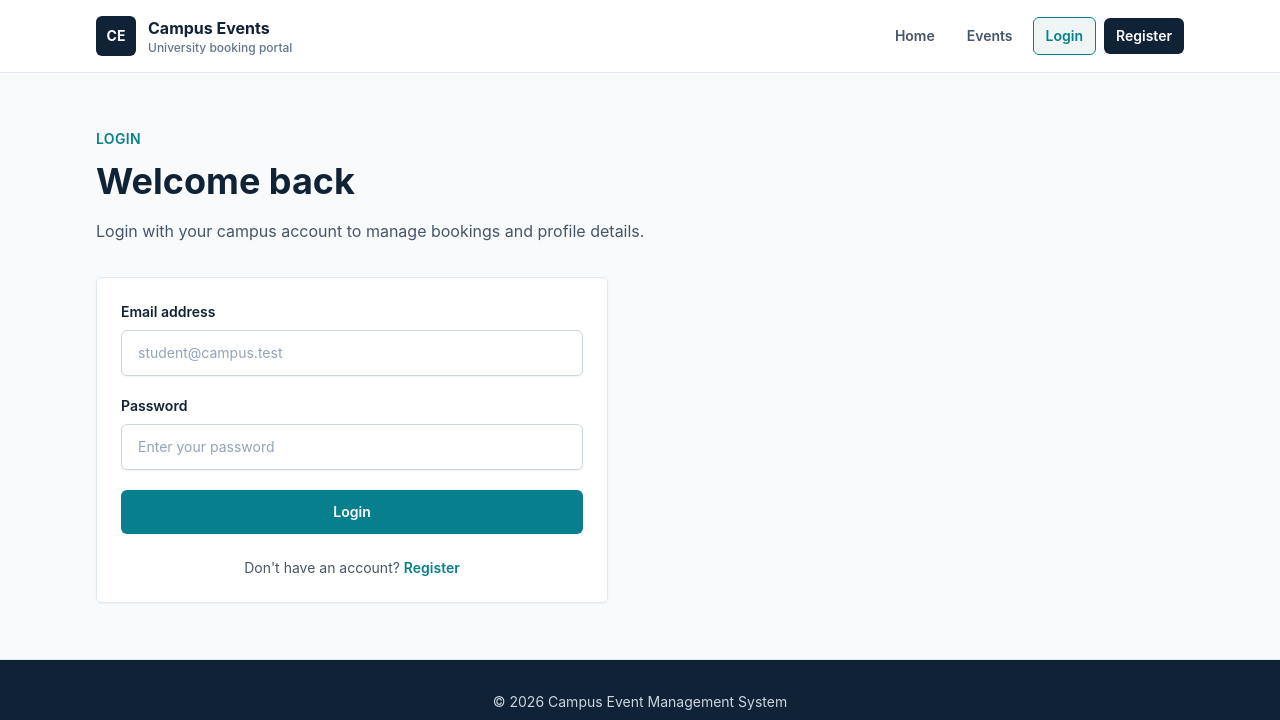
Login redirects › redirects admin users to the role-specific homepage after login
Type "person@campus.test" into the field labelled "Email address". click: coordinates (352, 353)
box: x1=121 y1=330 x2=583 y2=376
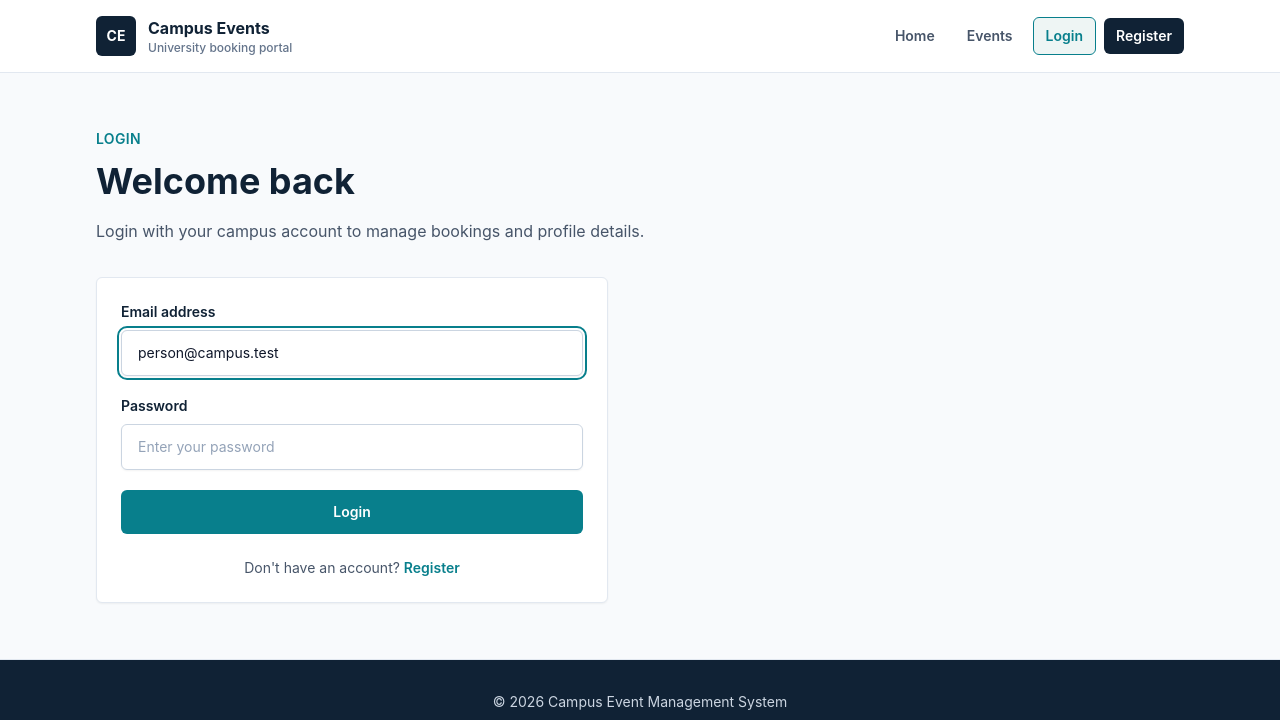
Type "password" into the password field labelled "Password". click: coordinates (352, 447)
box: x1=121 y1=424 x2=583 y2=470
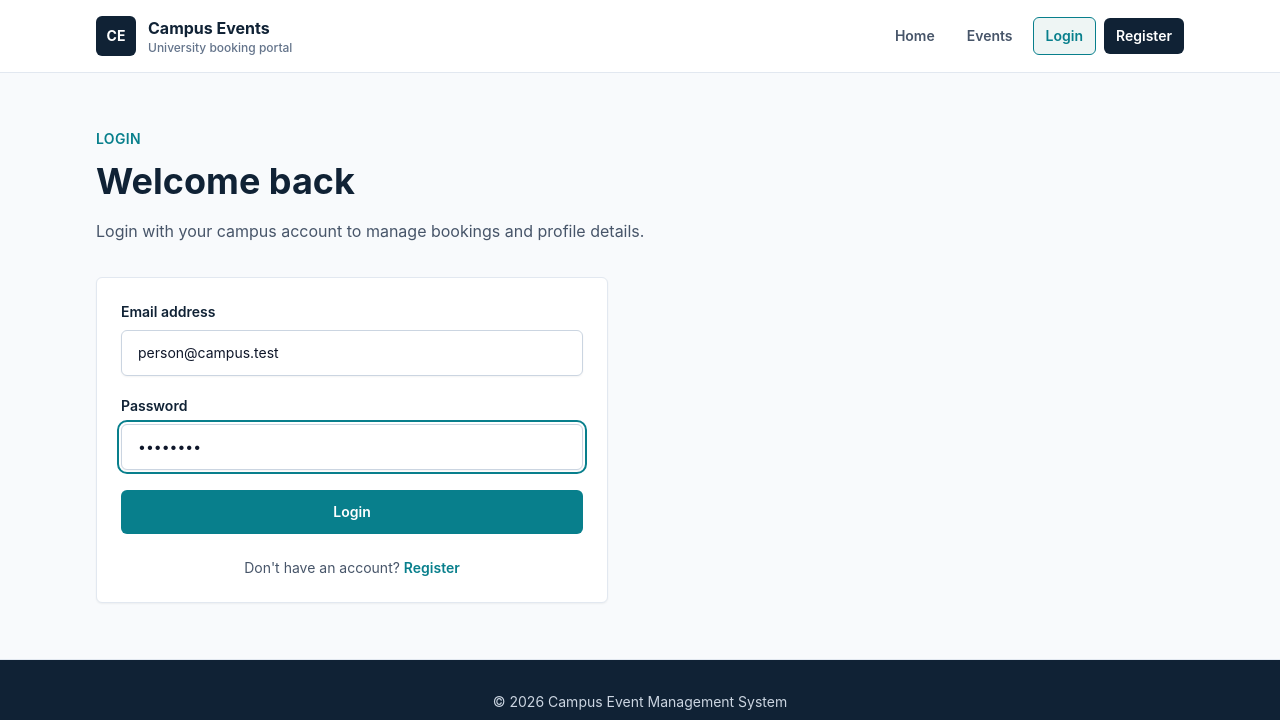
Click the button "Login". click: coordinates (352, 512)
box: x1=121 y1=490 x2=583 y2=534
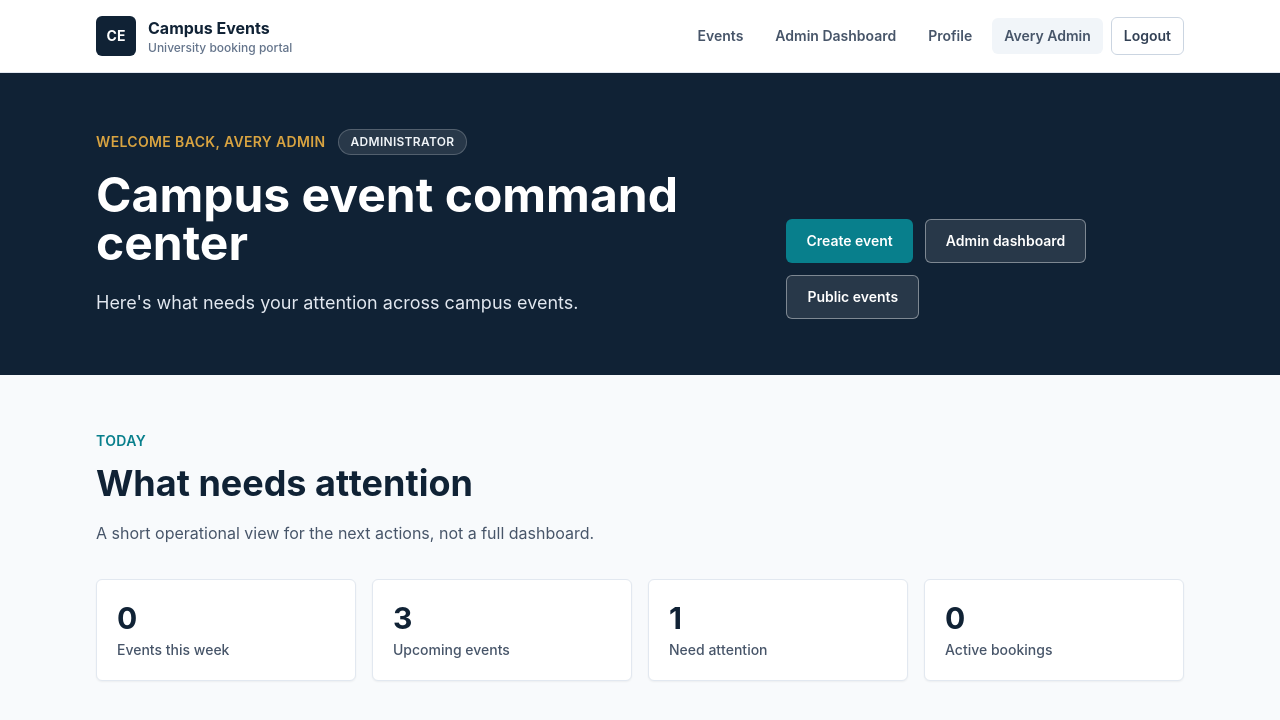
Expected: the text "Welcome back, Avery Admin" is shown, x1=96 y1=132 x2=326 y2=152
Expected: the link "Admin Dashboard" is shown, x1=775 y1=27 x2=896 y2=44
